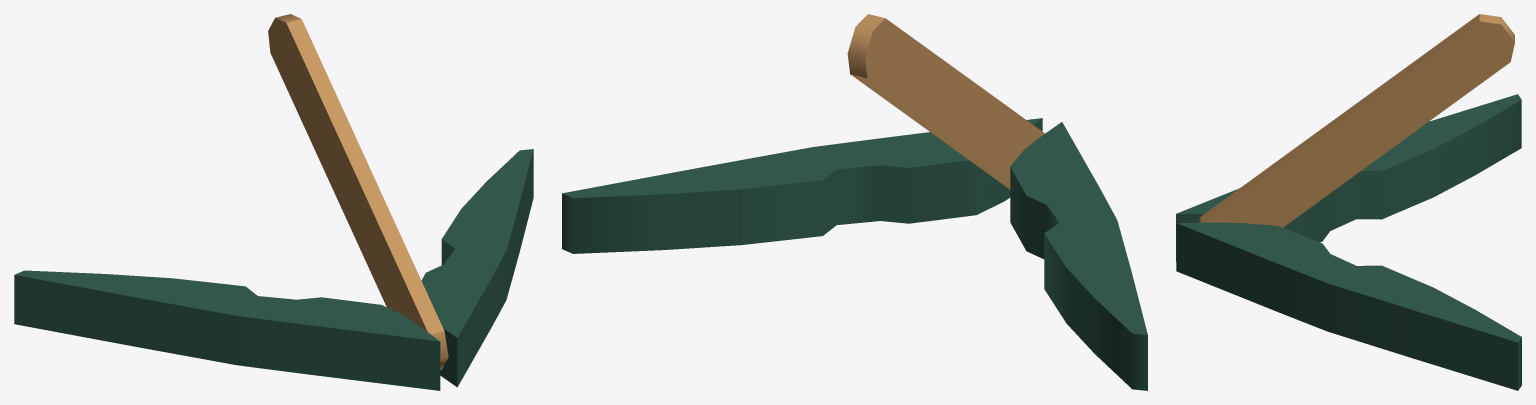
Rendered from SK_BasicEnemy.fbx.
3 renders of one model, left to right at view 1: azimuth 30°, elevation 25°; view 2: azimuth 150°, elevation 25°; view 3: azimuth 270°, elevation 25°, orthographic. The views are drawn at different scales.
Parts seen in each view (by area): view 1: Basic Enemy; view 2: Basic Enemy; view 3: Basic Enemy.
Boxes of the visible parts, <box> form: Basic Enemy: <box>14,14,533,390</box>; Basic Enemy: <box>562,14,1147,390</box>; Basic Enemy: <box>1176,14,1521,390</box>.
Bounding box in the file's own units: 127 × 59.84 × 75.18.
